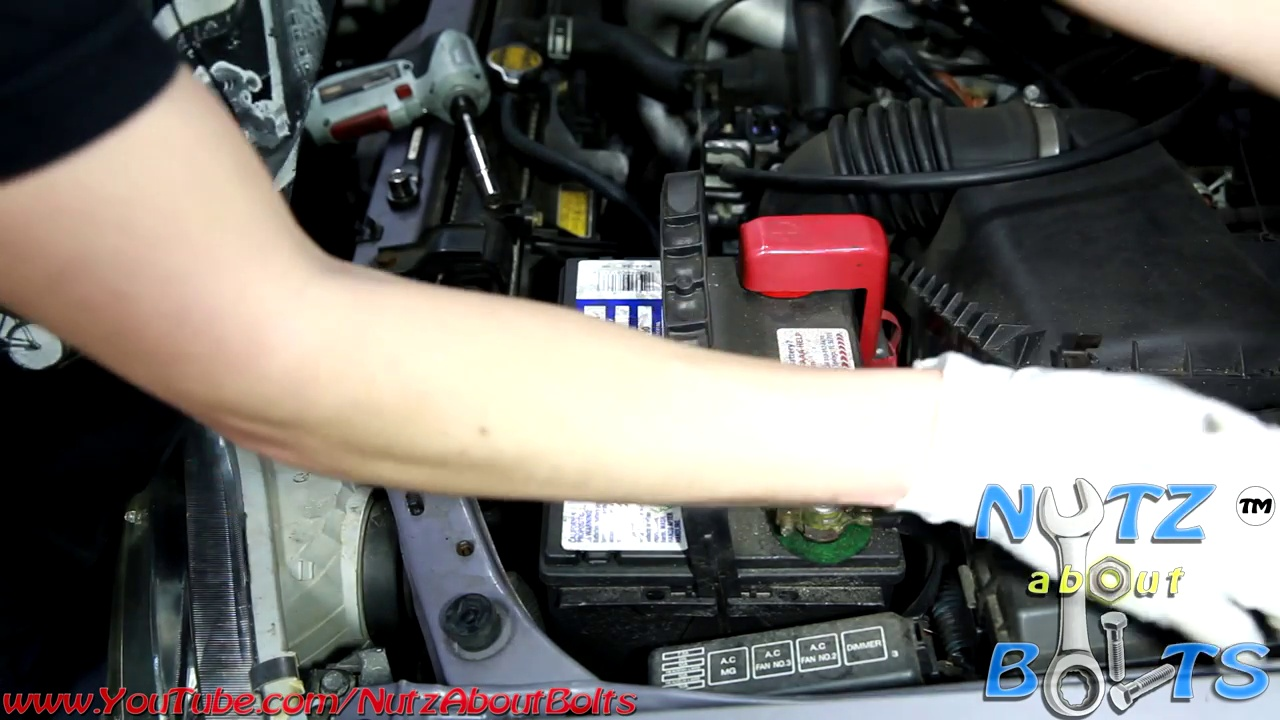battery: (555, 219, 913, 602)
